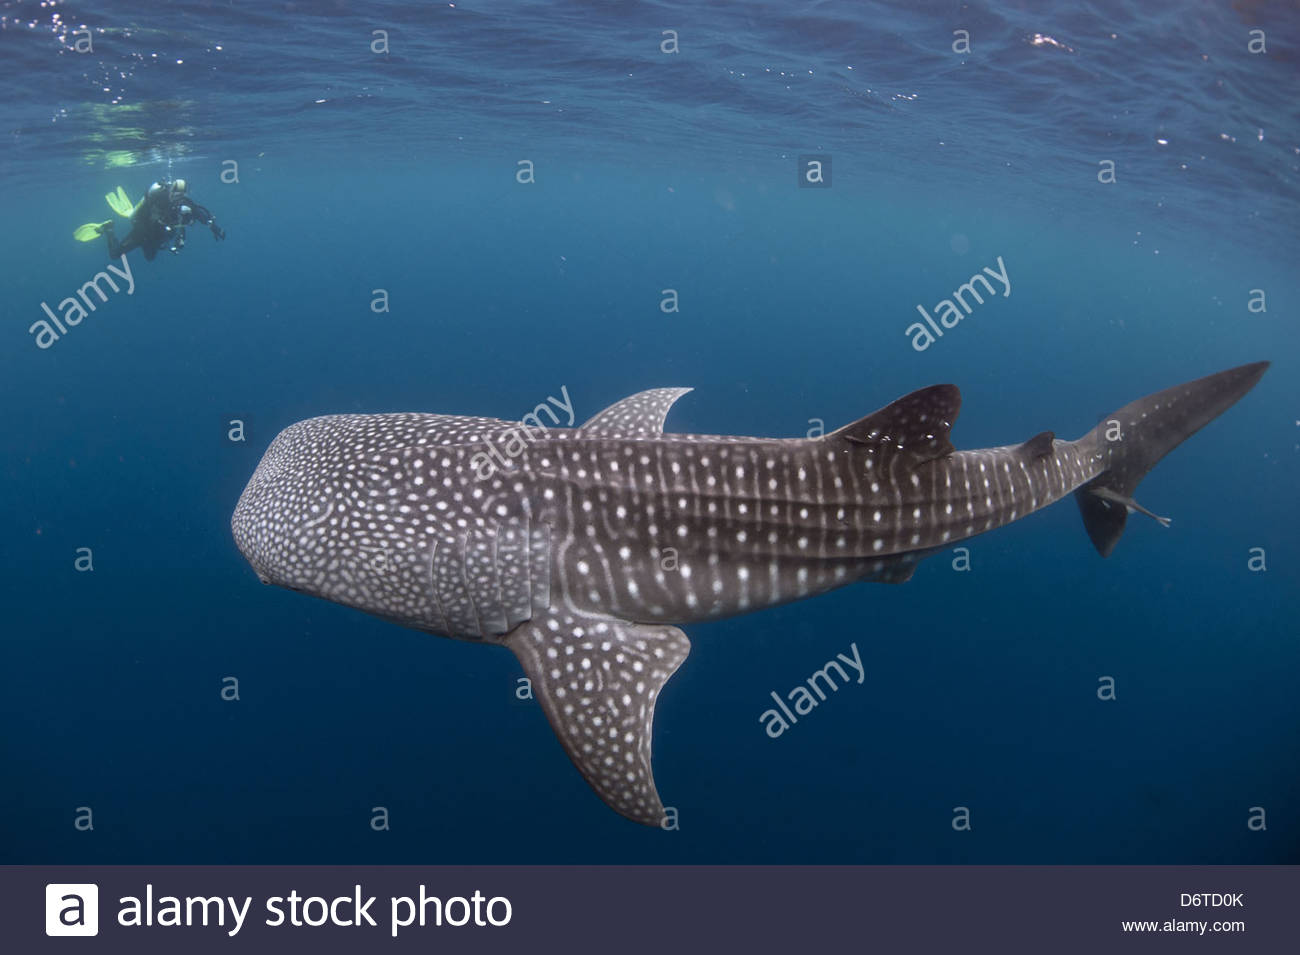Rhincodon_typusw: (195, 333, 1278, 848)
